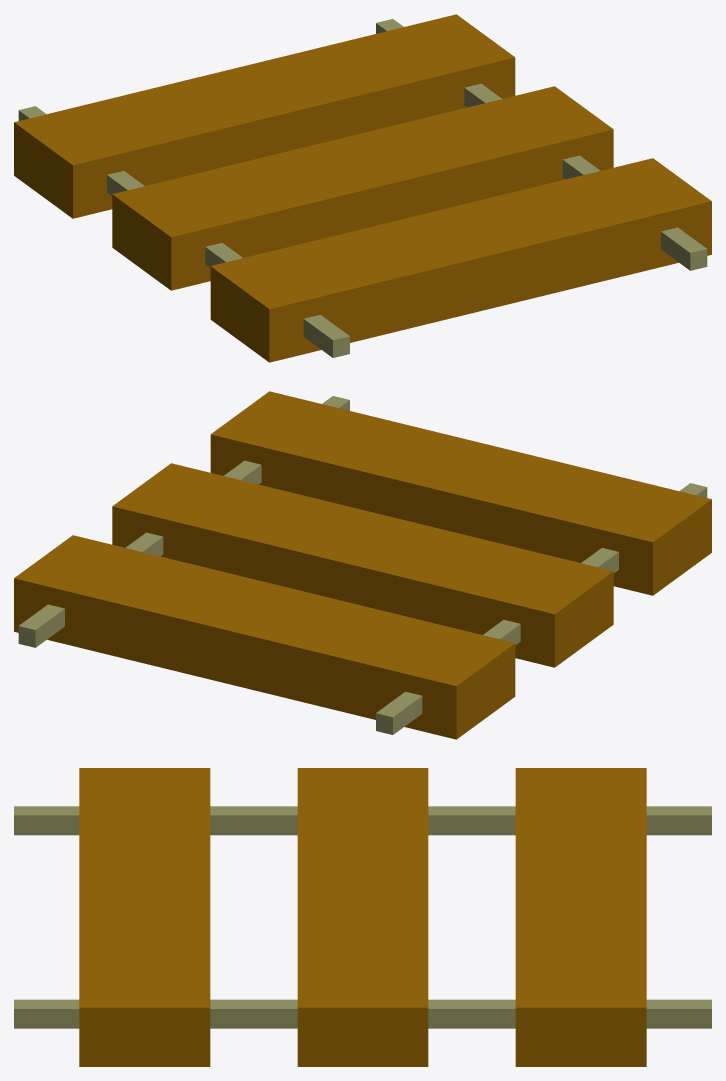
The model's file is ropebridge_middle.glb.
The picture shows the model from 3 angles, top to bottom: view 1: azimuth 30°, elevation 25°; view 2: azimuth 150°, elevation 25°; view 3: azimuth 270°, elevation 25°; orthographic projection. The views are drawn at different scales.
Visible parts, largest first — view 1: Untitled; view 2: Untitled; view 3: Untitled.
Boxes of the visible parts, bbox=[...] form: Untitled: bbox=[14, 14, 711, 362]; Untitled: bbox=[14, 391, 711, 739]; Untitled: bbox=[14, 768, 711, 1066].
Bounding box in the file's own units: 2.6 × 0.3 × 3.2.
Materials: 1 (1 with a texture image).
